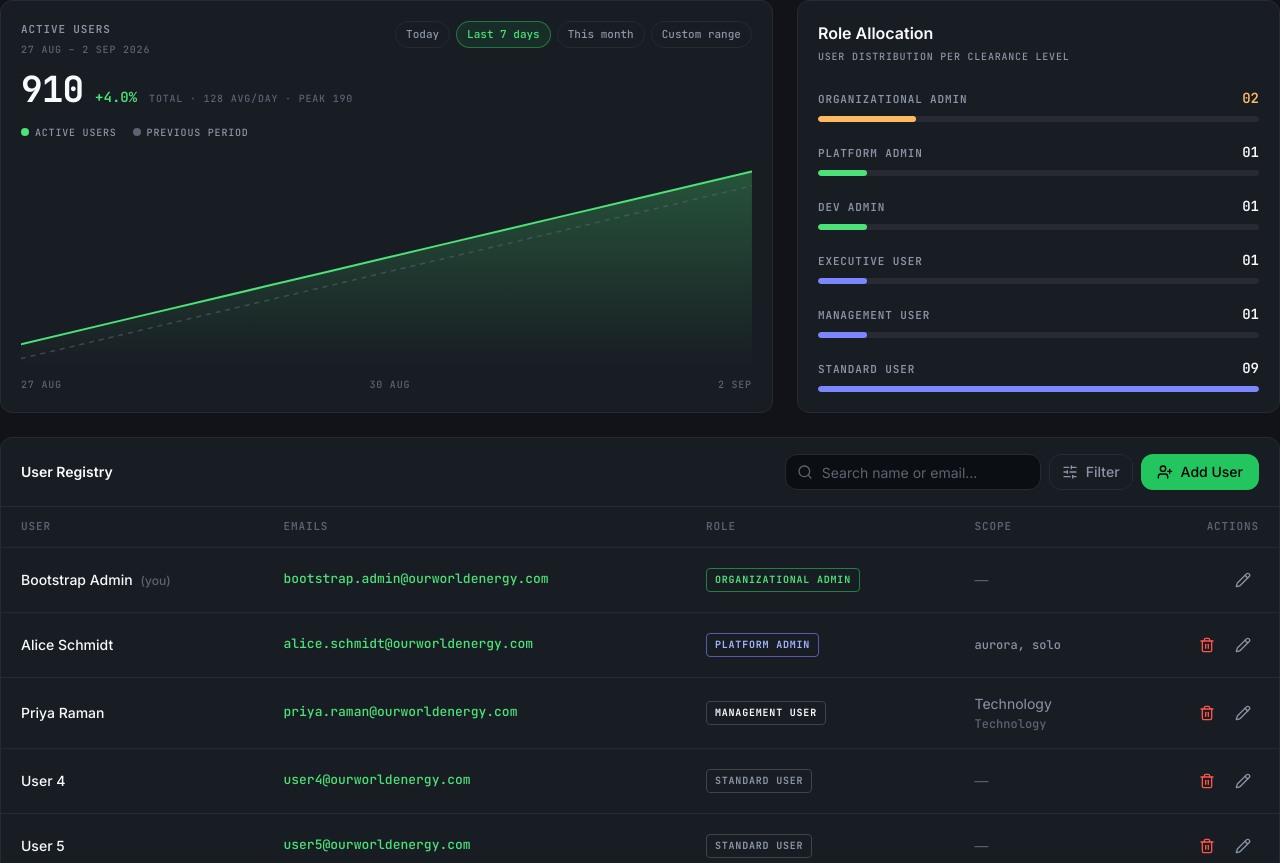
Test: User Management — empty states › offers a way out when filters match nothing
Type "zzz-no-such-user" into the search field named "Search registry" at (913, 472), box [785, 454, 1041, 490]
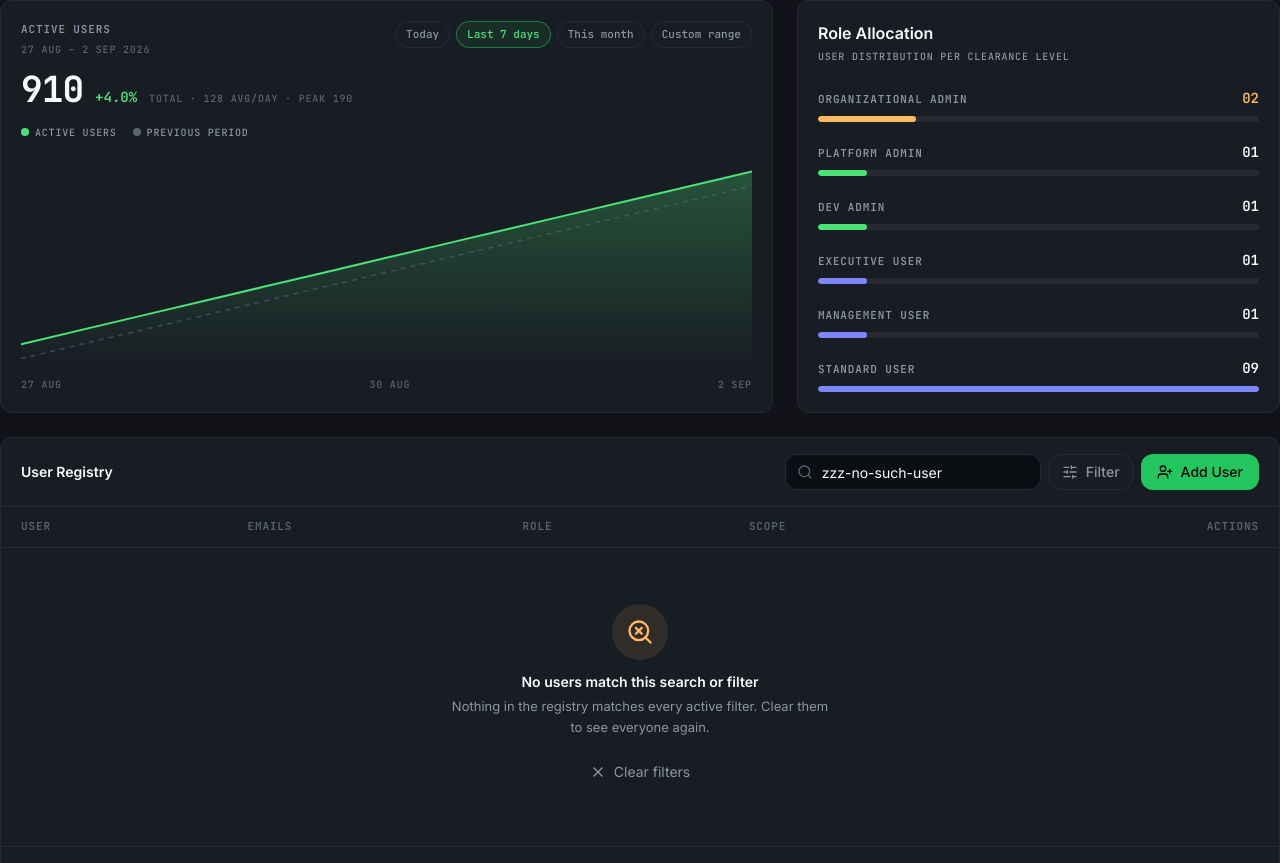
Expected: the text "No users match this search or filter" is shown, [522, 673, 759, 690]
Expected: the button "Clear filters" is shown, [574, 754, 706, 790]
